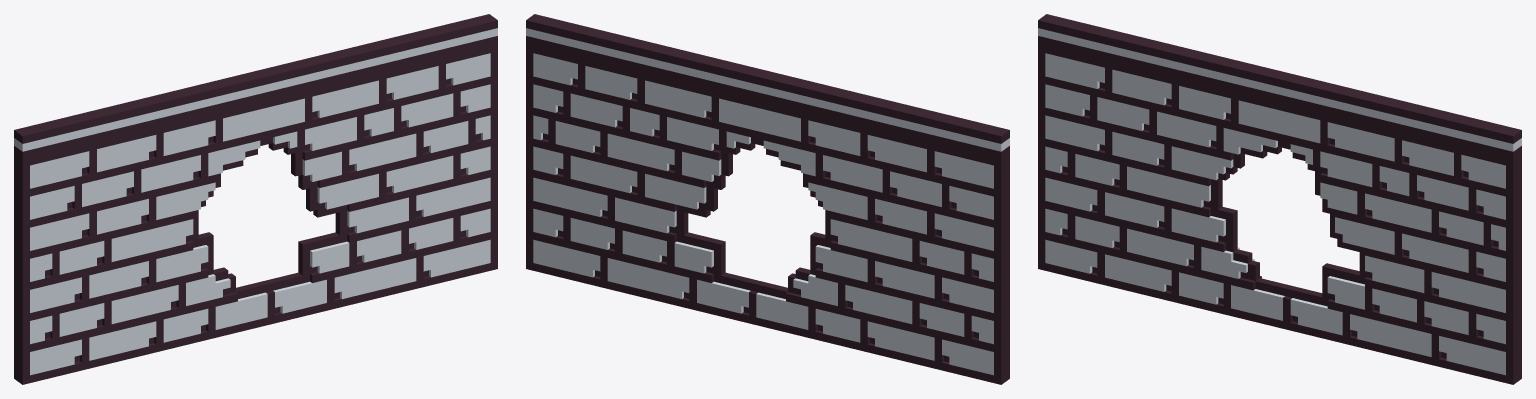
File: Stone Brick Wall (64x32x4) With Hole.fbx
3 renders of one model, left to right at view 1: azimuth 30°, elevation 25°; view 2: azimuth 150°, elevation 25°; view 3: azimuth 330°, elevation 25°, orthographic.
Visible parts, largest first — view 1: generated; view 2: generated; view 3: generated.
Boxes of the visible parts, box(x1,y1,x2,y2) form: generated: box(14, 14, 497, 384); generated: box(526, 14, 1009, 384); generated: box(1038, 14, 1521, 384).
Size of the model in its own units: 2560 by 1280 by 80.
